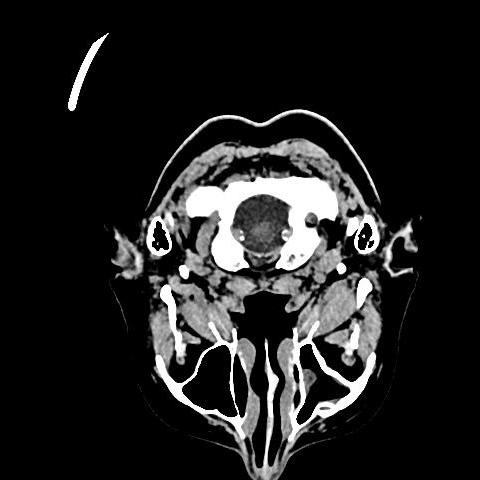Normal_Brain: (118, 100, 420, 480)
